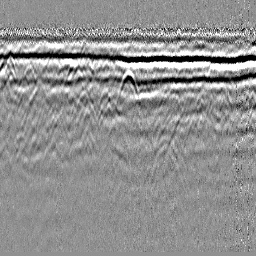cavity: (116, 68, 140, 104)
